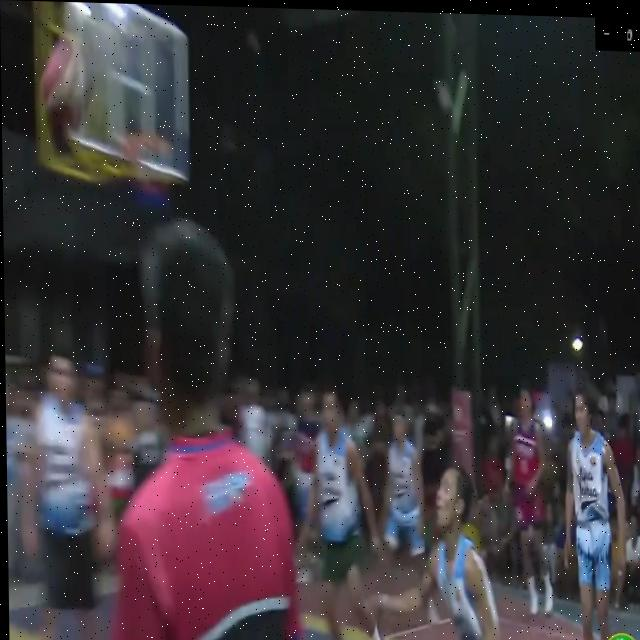basketball: (36, 34, 96, 161)
hoop: (119, 130, 179, 224)
